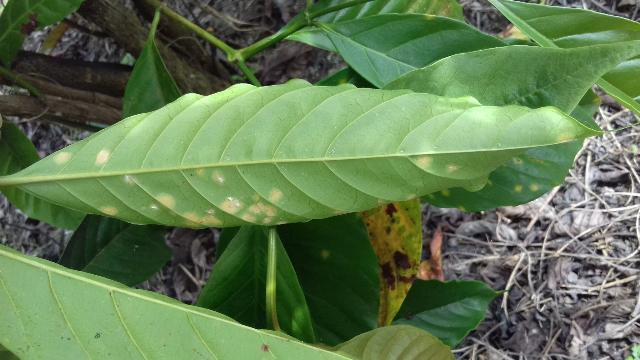rust_level_1: (7, 79, 601, 225)
